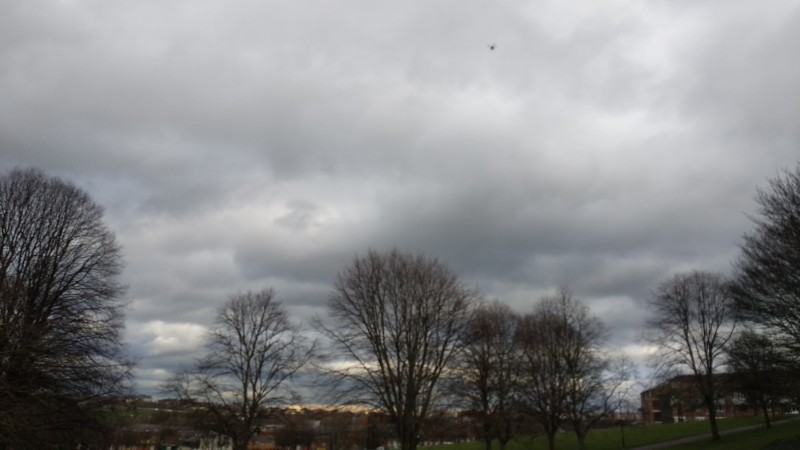drone: (488, 43, 497, 53)
